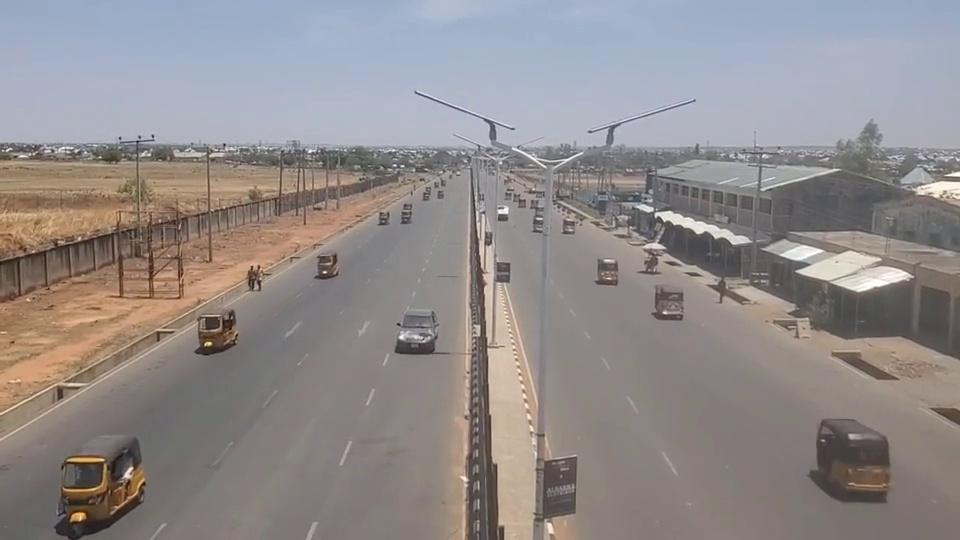car: (396, 308, 441, 353)
keke: (55, 433, 146, 531), (815, 417, 891, 498), (196, 308, 239, 352), (654, 285, 684, 320), (316, 252, 339, 279), (597, 257, 619, 285), (532, 216, 544, 232), (378, 210, 390, 225), (563, 219, 575, 234)
